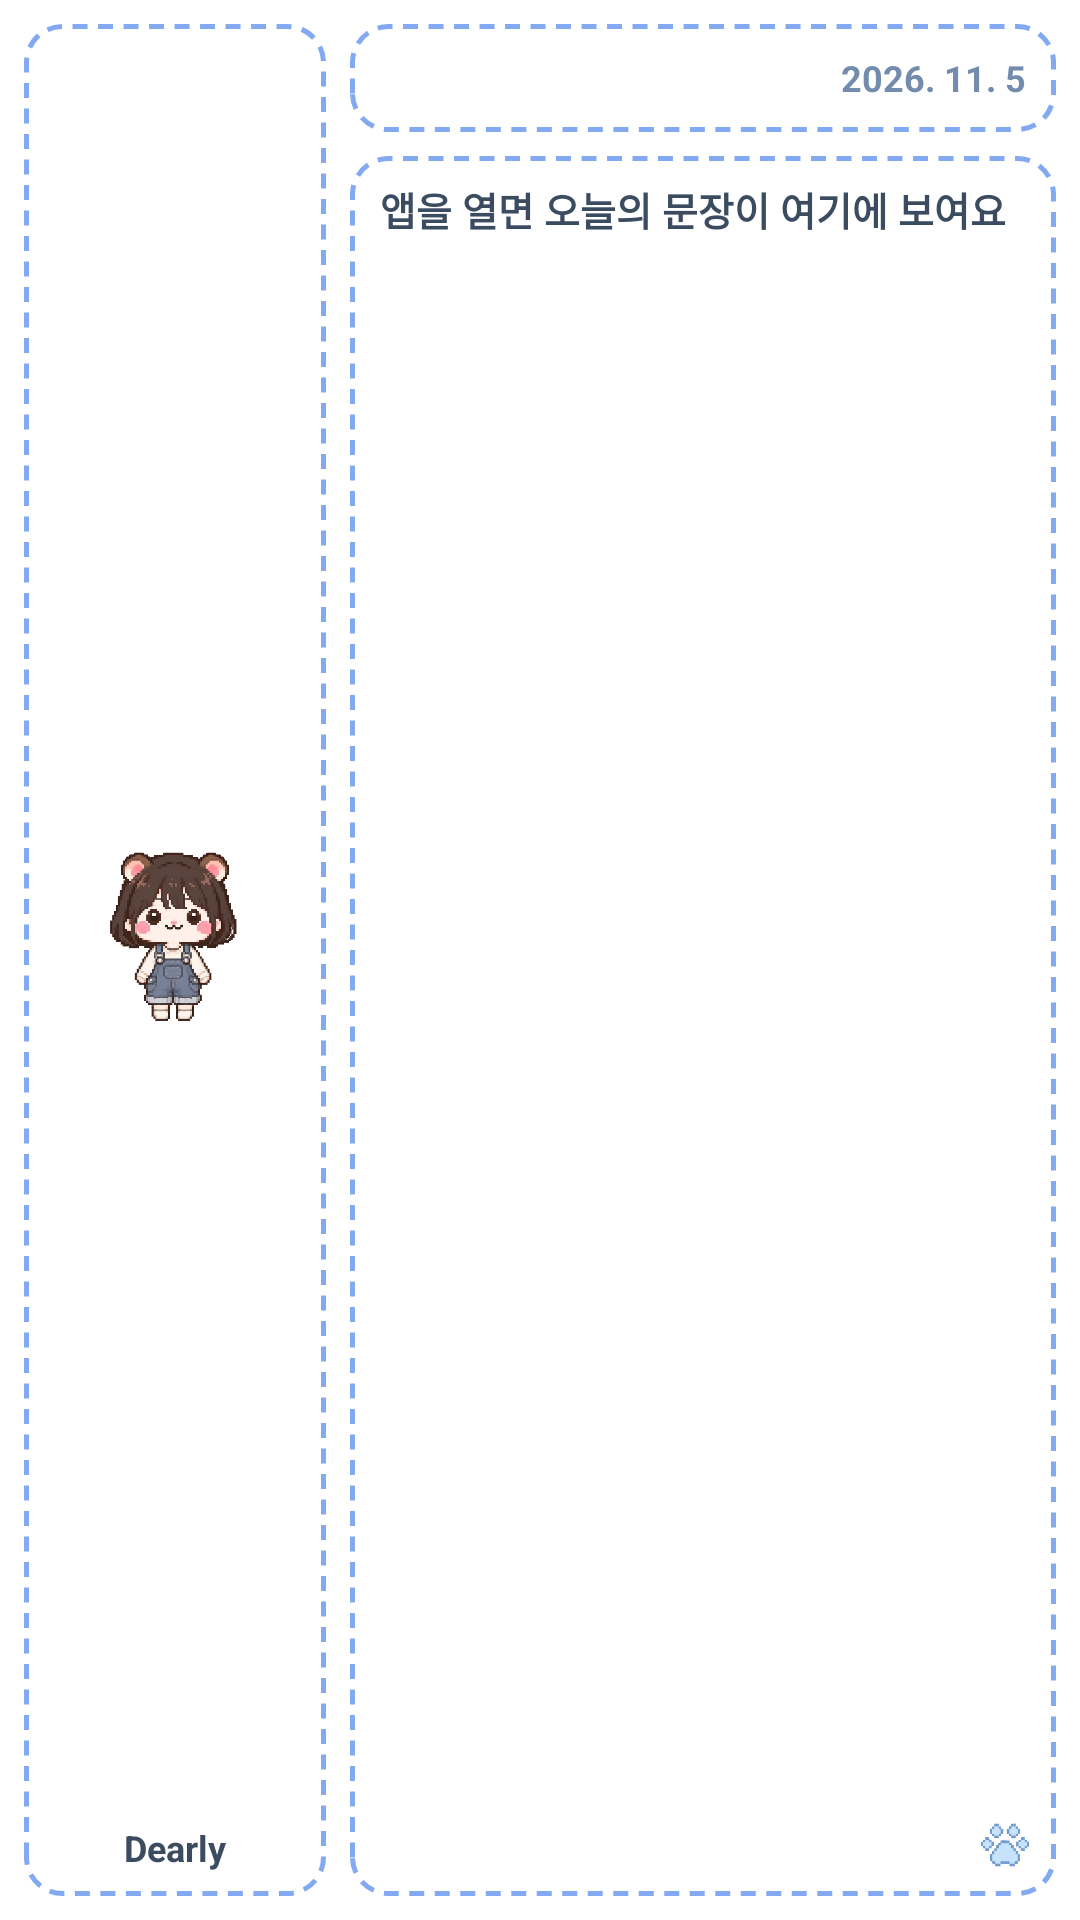

Named icons in this screenshot (1080x1920) and their centers, [x,y]:
widget paw: [1005,1845]
캐릭터: [173,936]
